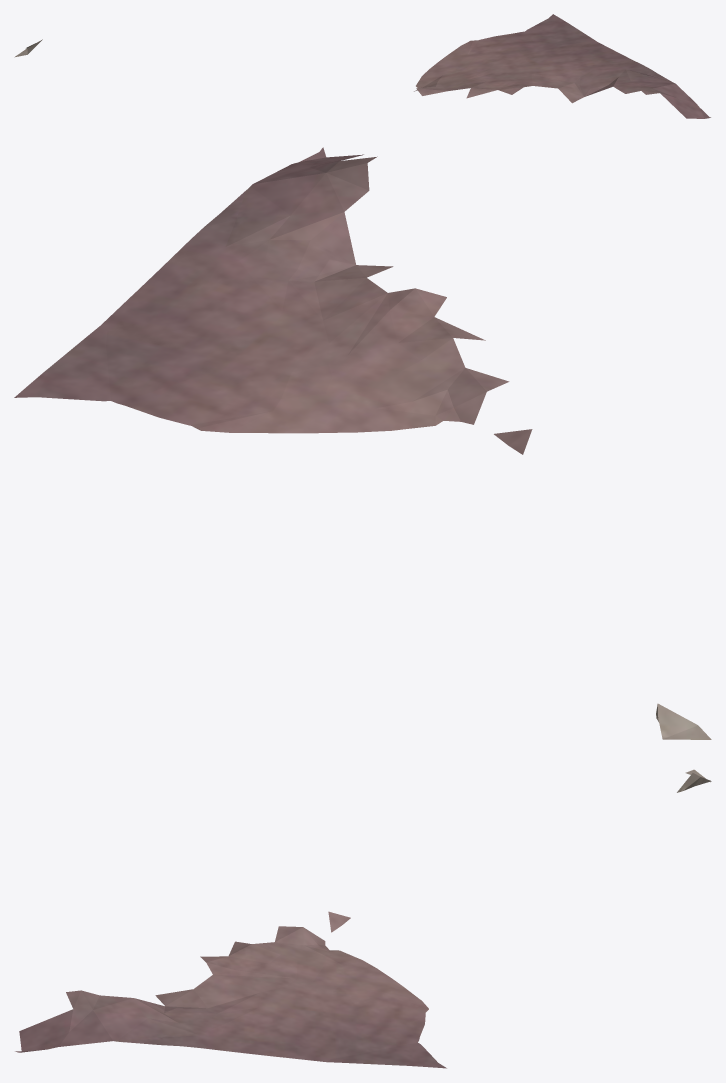
3 views of the same model, one above another, from view 1: azimuth 30°, elevation 25°; view 2: azimuth 150°, elevation 25°; view 3: azimuth 270°, elevation 25° (orthographic). The views are drawn at different scales.
Size of the model in its own units: 2.21 by 0.1601 by 2.18.
1 material, 1 textured.
